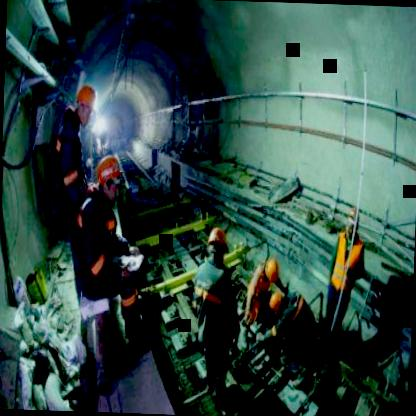helmet: (92, 152, 125, 205), (72, 80, 98, 124), (206, 225, 229, 268), (260, 254, 282, 284), (344, 206, 363, 236), (265, 292, 287, 317)
